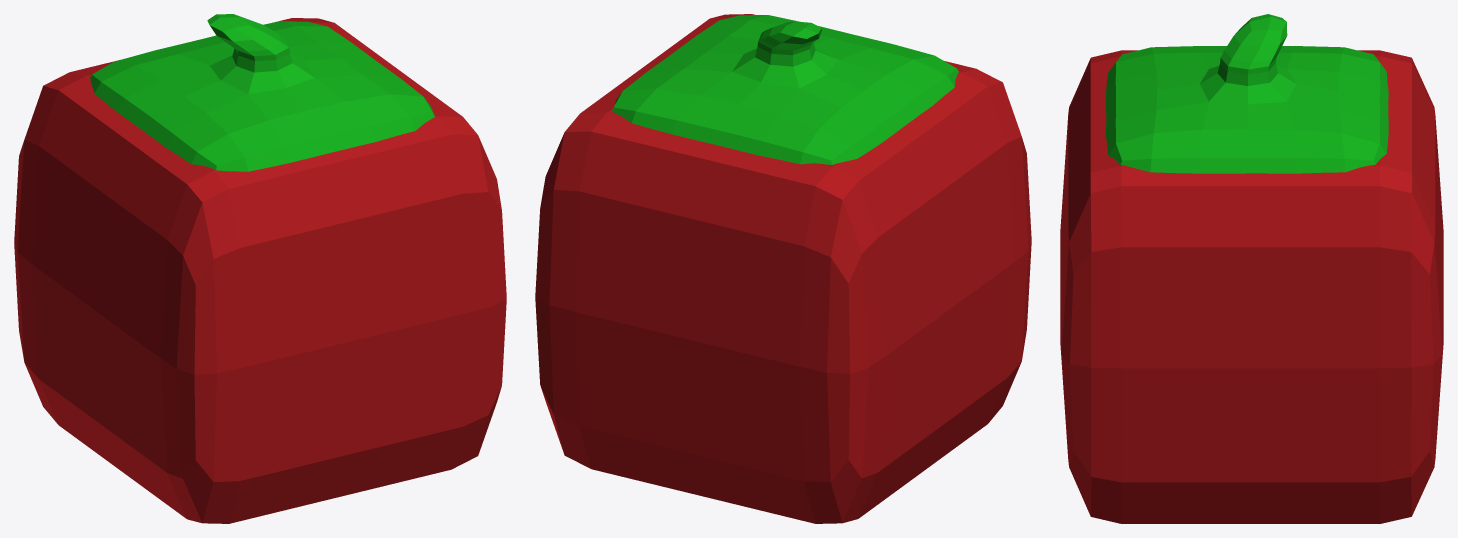
The model's file is t_fruit.fbx.
3 views of the same model, side by side, from view 1: azimuth 30°, elevation 25°; view 2: azimuth 150°, elevation 25°; view 3: azimuth 270°, elevation 25° (orthographic).
Visible parts, largest first — view 1: Cube, Cube.002; view 2: Cube, Cube.002; view 3: Cube, Cube.002.
Boxes of the visible parts, x1,y1,x2,y2 form: Cube: (14,18,506,523); Cube.002: (90,14,434,171); Cube: (535,14,1031,523); Cube.002: (612,15,958,164); Cube: (1060,50,1443,523); Cube.002: (1106,14,1388,173).
Size of the model in its own units: 39.61 by 49.2 by 39.61.
